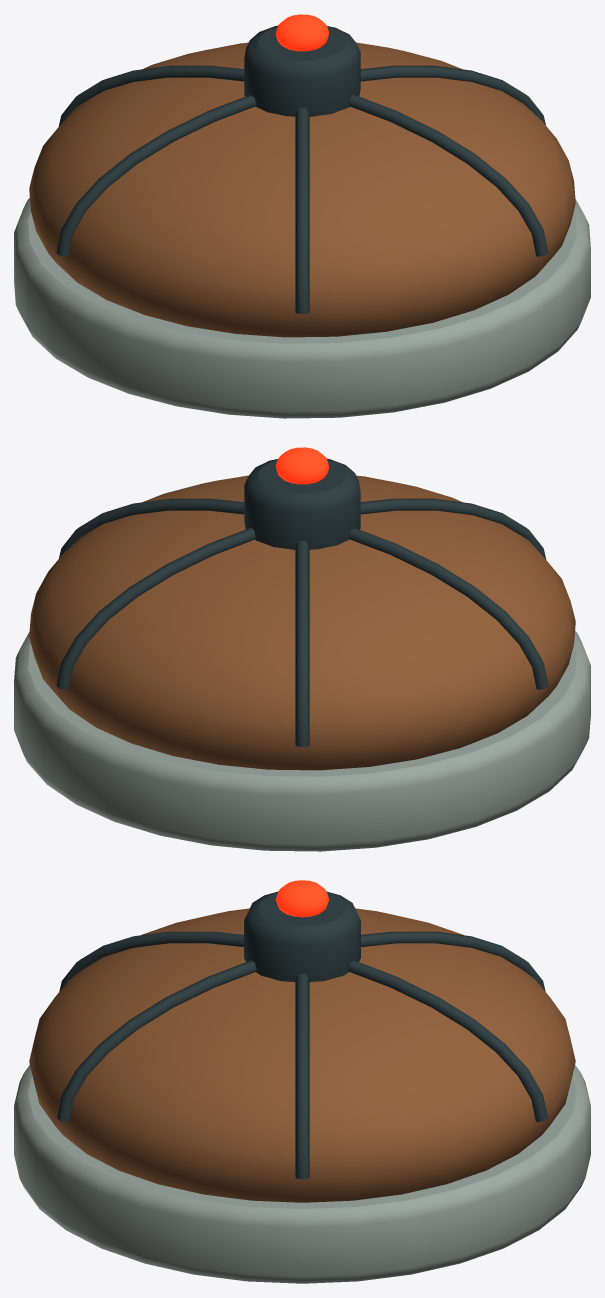
Rendered from battlecity-mine-item.glb.
3 renders of one model, top to bottom at view 1: azimuth 30°, elevation 25°; view 2: azimuth 150°, elevation 25°; view 3: azimuth 270°, elevation 25°, orthographic.
Parts seen in each view (by area): view 1: DX mine copper shell, Brushed steel, DX dark machinery, Warning red; view 2: DX mine copper shell, Brushed steel, DX dark machinery, Warning red; view 3: DX mine copper shell, Brushed steel, DX dark machinery, Warning red.
Part boxes in pixels (bbox=[...]): DX mine copper shell: bbox=[29, 42, 575, 337]; Brushed steel: bbox=[14, 197, 590, 418]; DX dark machinery: bbox=[56, 25, 548, 313]; Warning red: bbox=[276, 14, 328, 51]; DX mine copper shell: bbox=[29, 475, 575, 770]; Brushed steel: bbox=[14, 630, 590, 851]; DX dark machinery: bbox=[56, 458, 548, 746]; Warning red: bbox=[276, 447, 328, 484]; DX mine copper shell: bbox=[29, 908, 575, 1202]; Brushed steel: bbox=[14, 1065, 590, 1283]; DX dark machinery: bbox=[57, 891, 547, 1179]; Warning red: bbox=[275, 880, 329, 917].
Size of the model in its own units: 0.494 by 0.268 by 0.494.
